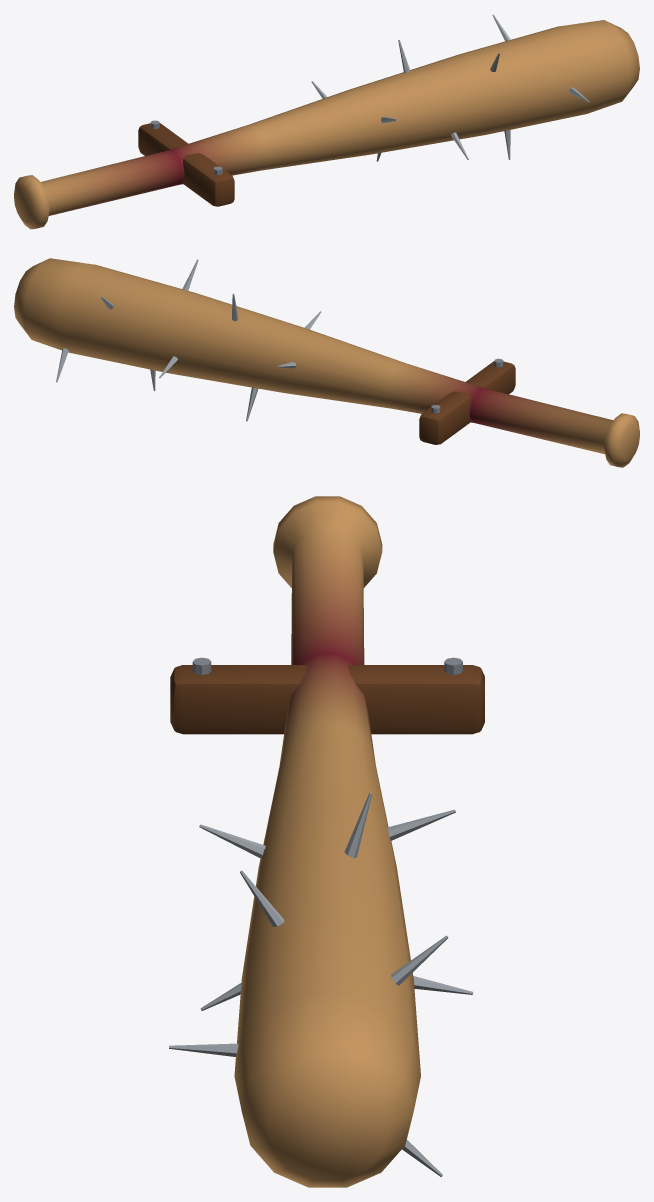
The model's file is sword_bat.glb.
3 views of the same model, one above another, from view 1: azimuth 30°, elevation 25°; view 2: azimuth 150°, elevation 25°; view 3: azimuth 270°, elevation 25° (orthographic). The views are drawn at different scales.
Parts seen in each view (by area): view 1: sword_bat; view 2: sword_bat; view 3: sword_bat.
Boxes of the visible parts, <box> form: sword_bat: <box>14,14,639,229</box>; sword_bat: <box>14,258,639,467</box>; sword_bat: <box>169,496,484,1187</box>.
Size of the model in its own units: 1.34 by 0.2766 by 0.3015.
